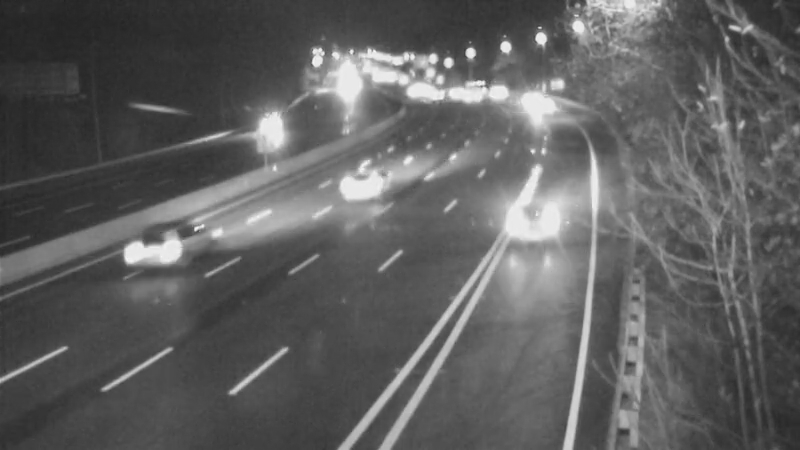vehicle: (322, 143, 402, 223), (493, 177, 573, 257), (121, 200, 201, 280), (451, 61, 501, 111), (386, 64, 436, 114), (482, 63, 532, 113), (442, 72, 492, 122), (509, 73, 559, 123), (406, 73, 456, 123), (512, 78, 562, 128), (256, 107, 306, 157)
